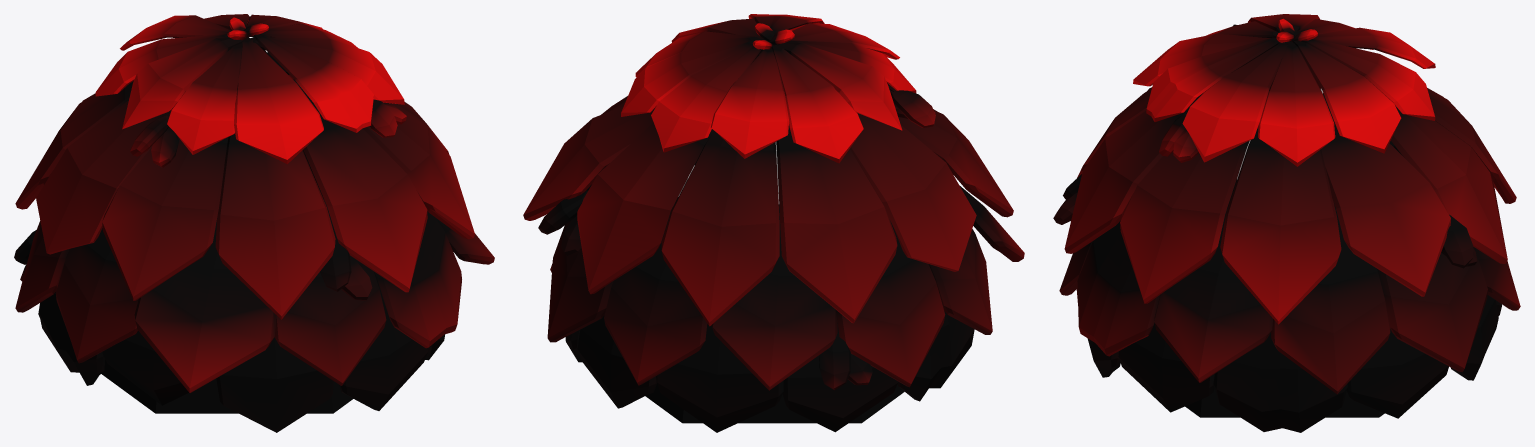
File: SM_HealthyBush_01_LOD2.fbx
3 views of the same model, side by side, from view 1: azimuth 30°, elevation 25°; view 2: azimuth 150°, elevation 25°; view 3: azimuth 270°, elevation 25° (orthographic).
Parts seen in each view (by area): view 1: Bush_01_LOD2; view 2: Bush_01_LOD2; view 3: Bush_01_LOD2.
Part boxes in pixels (<box>): Bush_01_LOD2: <box>14,14,494,432</box>; Bush_01_LOD2: <box>523,14,1024,432</box>; Bush_01_LOD2: <box>1053,14,1520,432</box>.
Bounding box in the file's own units: 209 × 165 × 211.
